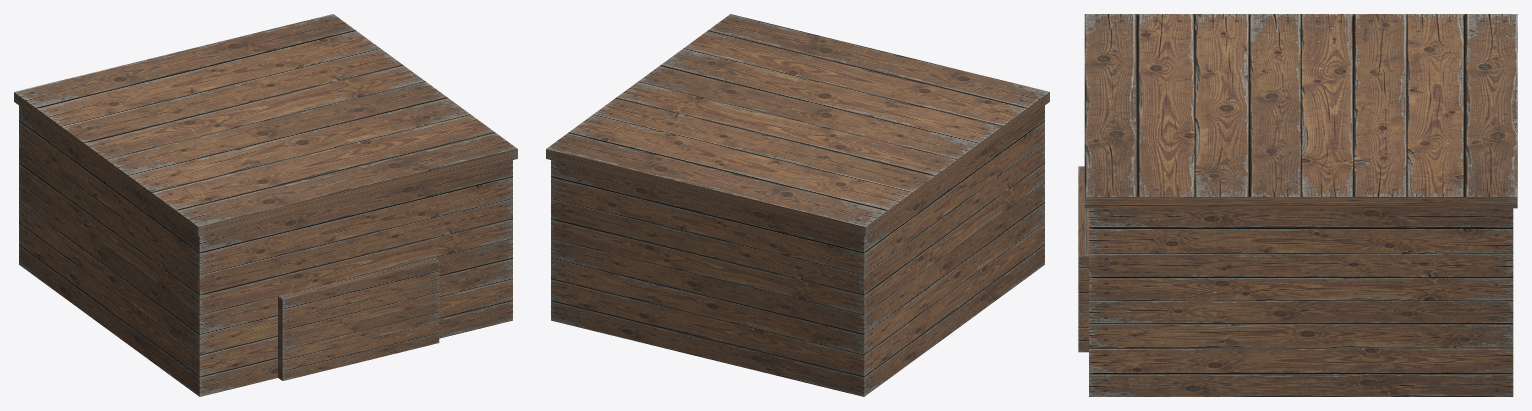
File: storage_yard.obj
3 renders of one model, left to right at view 1: azimuth 30°, elevation 25°; view 2: azimuth 150°, elevation 25°; view 3: azimuth 270°, elevation 25°, orthographic. The views are drawn at different scales.
Parts seen in each view (by area): view 1: building; view 2: building; view 3: building.
Boxes of the visible parts, bbox=[...] form: building: bbox=[14, 14, 517, 396]; building: bbox=[546, 14, 1049, 396]; building: bbox=[1078, 14, 1517, 396].
Size of the model in its own units: 3.06 by 1.58 by 3.11.
